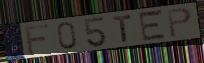0: (56, 21, 79, 51)
5: (83, 16, 108, 49)
E: (138, 9, 168, 43)
F: (23, 23, 51, 56)
P: (165, 6, 193, 39)
T: (111, 14, 134, 43)
